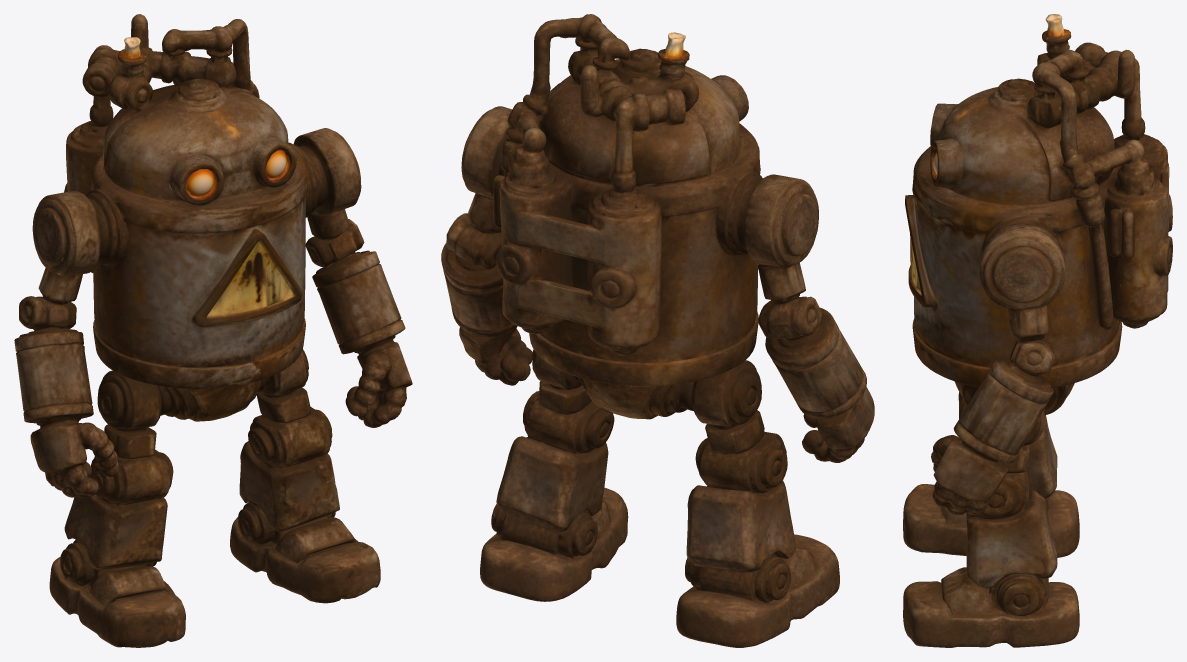
File: pixellabs-glb-3393.high.glb
3 renders of one model, left to right at view 1: azimuth 30°, elevation 25°; view 2: azimuth 150°, elevation 25°; view 3: azimuth 270°, elevation 25°, orthographic. The views are drawn at different scales.
Parts seen in each view (by area): view 1: material; view 2: material; view 3: material.
Part boxes in pixels (<box>): material: <box>14,14,412,647</box>; material: <box>441,14,874,647</box>; material: <box>903,14,1172,647</box>.
Size of the model in its own units: 0.7338 by 1.02 by 0.4572.
1 material, 1 textured.
